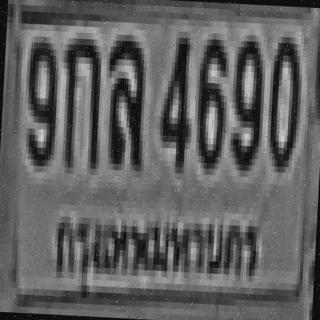A01: (59, 32, 103, 169)
A36: (102, 31, 145, 162)
N00: (266, 30, 302, 167)
N04: (156, 31, 191, 168)
N06: (192, 32, 228, 170)
N09: (229, 28, 265, 165), (22, 36, 57, 160)
P04: (48, 208, 262, 288)
